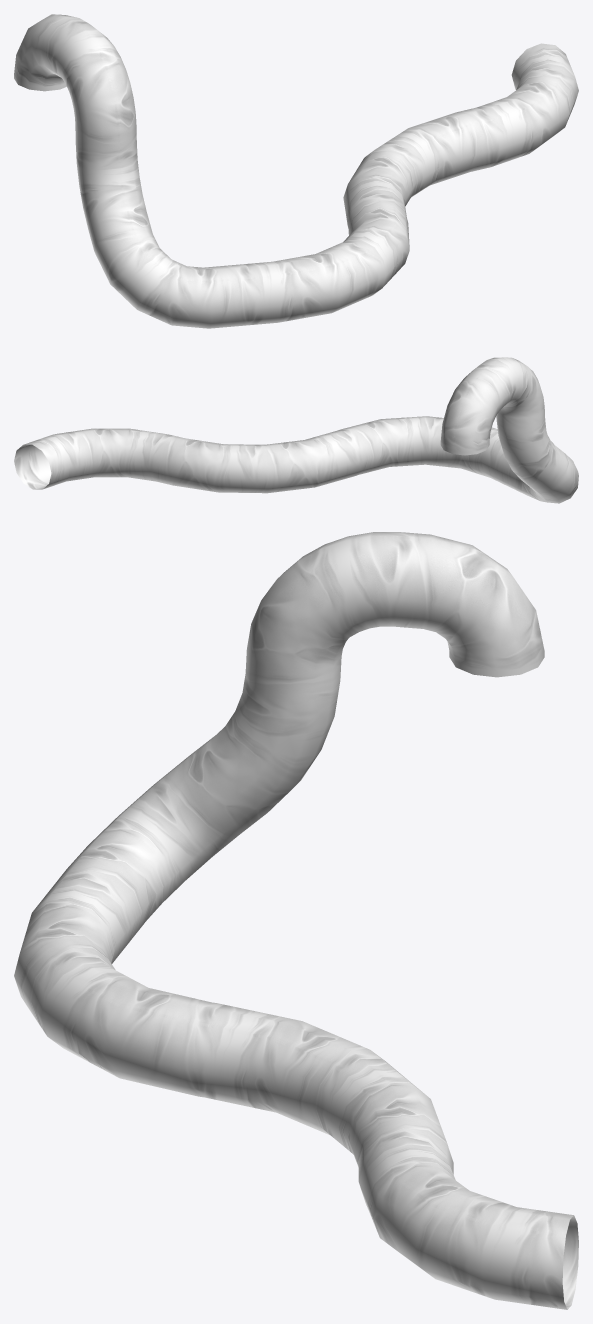
Rendered from Pipe__2.fbx.
The picture shows the model from 3 angles, top to bottom: view 1: azimuth 30°, elevation 25°; view 2: azimuth 150°, elevation 25°; view 3: azimuth 270°, elevation 25°; orthographic projection. The views are drawn at different scales.
Visible parts, largest first — view 1: Pipe_Metal; view 2: Pipe_Metal; view 3: Pipe_Metal.
Boxes of the visible parts, x1,y1,x2,y2 form: Pipe_Metal: [14, 14, 578, 328]; Pipe_Metal: [14, 357, 578, 503]; Pipe_Metal: [14, 532, 578, 1309].
Bounding box in the file's own units: 5.49 × 2.19 × 2.97.
1 material, 1 textured.
